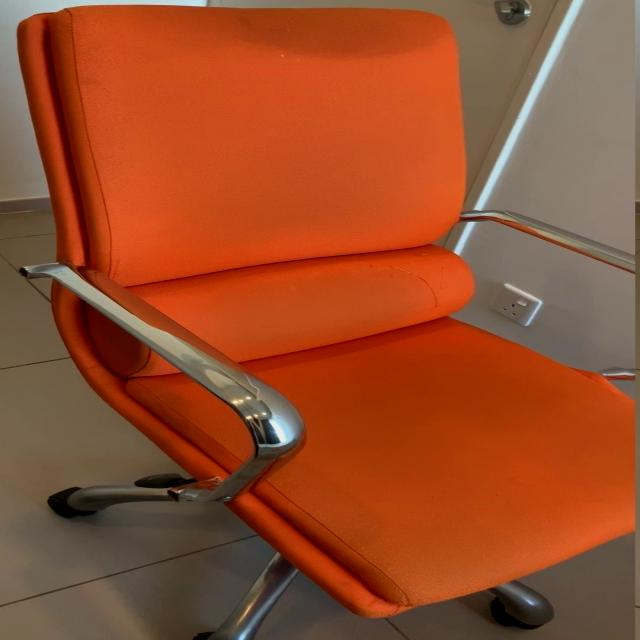Chair: (14, 5, 640, 640)
